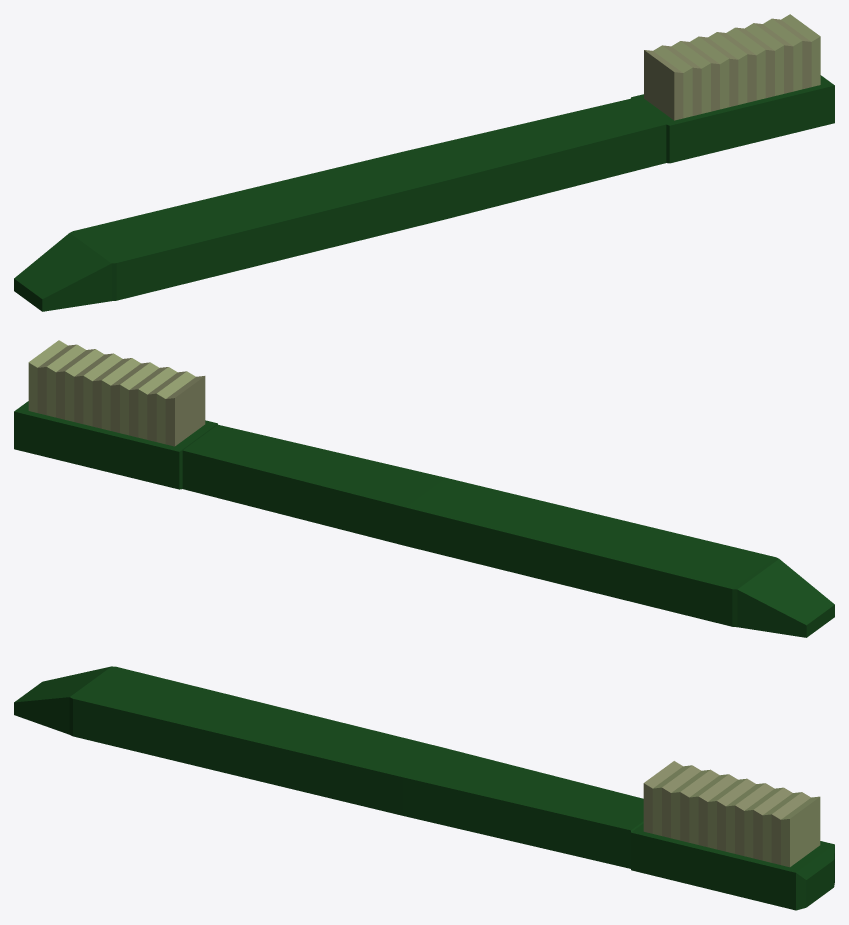
Rendered from hammasharja.obj.
The picture shows the model from 3 angles, top to bottom: view 1: azimuth 30°, elevation 25°; view 2: azimuth 150°, elevation 25°; view 3: azimuth 330°, elevation 25°; orthographic projection.
Parts seen in each view (by area): view 1: Cube; view 2: Cube; view 3: Cube.
Part boxes in pixels (x1,y1,x2,y2): Cube: [14, 14, 834, 311]; Cube: [14, 340, 834, 637]; Cube: [14, 666, 834, 910].
Bounding box in the file's own units: 4.37 × 0.4568 × 0.4164.
